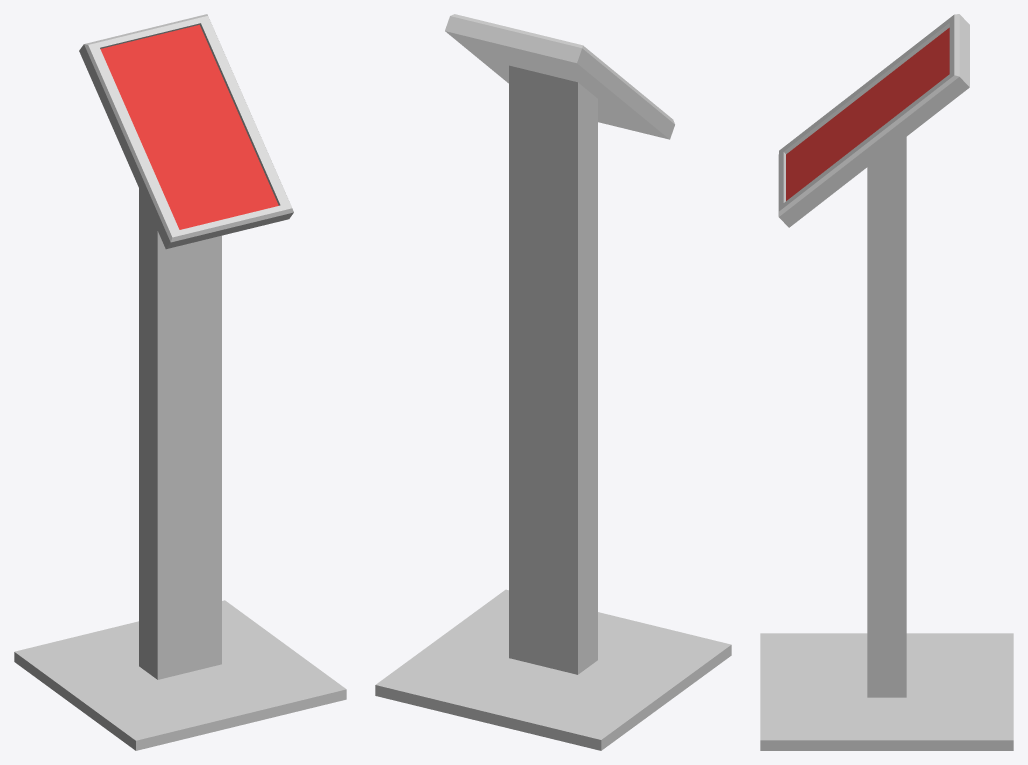
The model's file is UiPad.fbx.
The picture shows the model from 3 angles, left to right: view 1: azimuth 30°, elevation 25°; view 2: azimuth 150°, elevation 25°; view 3: azimuth 270°, elevation 25°; orthographic projection. The views are drawn at different scales.
Parts seen in each view (by area): view 1: UiPad; view 2: UiPad; view 3: UiPad.
Boxes of the visible parts, x1,y1,x2,y2 form: UiPad: [14, 14, 346, 750]; UiPad: [375, 14, 731, 750]; UiPad: [760, 14, 1013, 750].
Bounding box in the file's own units: 41.48 × 118 × 41.48.
